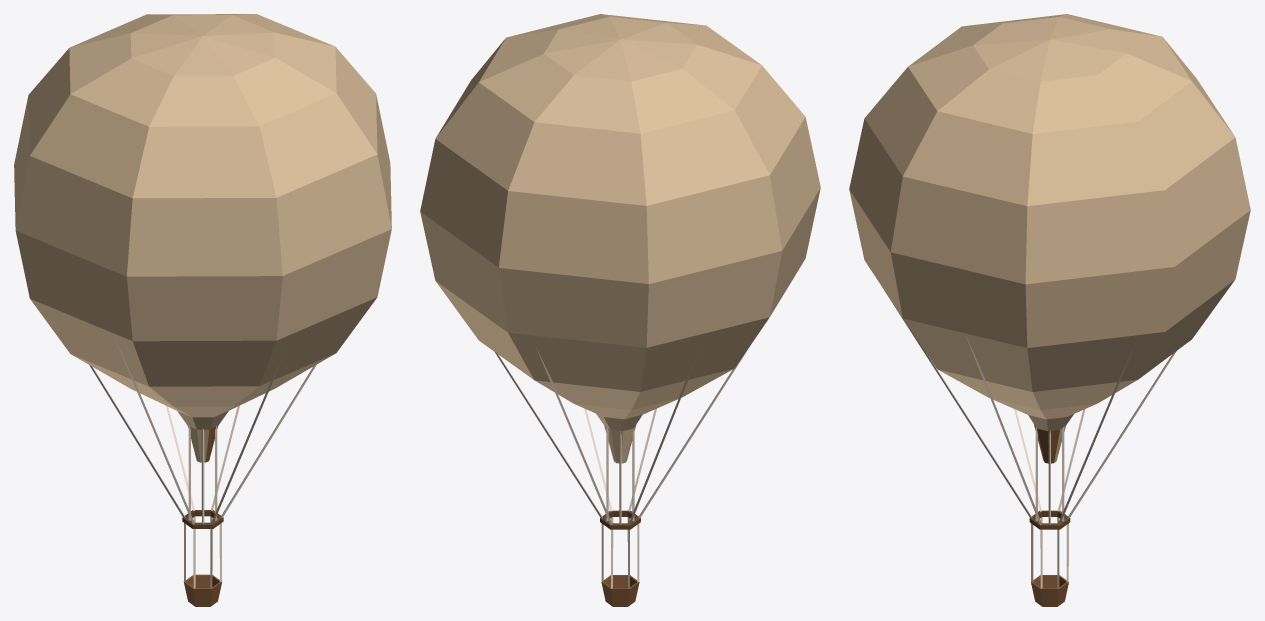
Rendered from balloon-spotter.glb.
The picture shows the model from 3 angles, left to right: view 1: azimuth 30°, elevation 25°; view 2: azimuth 150°, elevation 25°; view 3: azimuth 270°, elevation 25°; orthographic projection.
Parts seen in each view (by area): view 1: balloon-spotter; view 2: balloon-spotter; view 3: balloon-spotter.
Part boxes in pixels (left/top/right/bottom): balloon-spotter: left=14, top=14, right=391, bottom=606; balloon-spotter: left=420, top=14, right=820, bottom=606; balloon-spotter: left=849, top=14, right=1250, bottom=606.
Size of the model in its own units: 11.91 by 18.38 by 11.91.
1 material, 1 textured.
